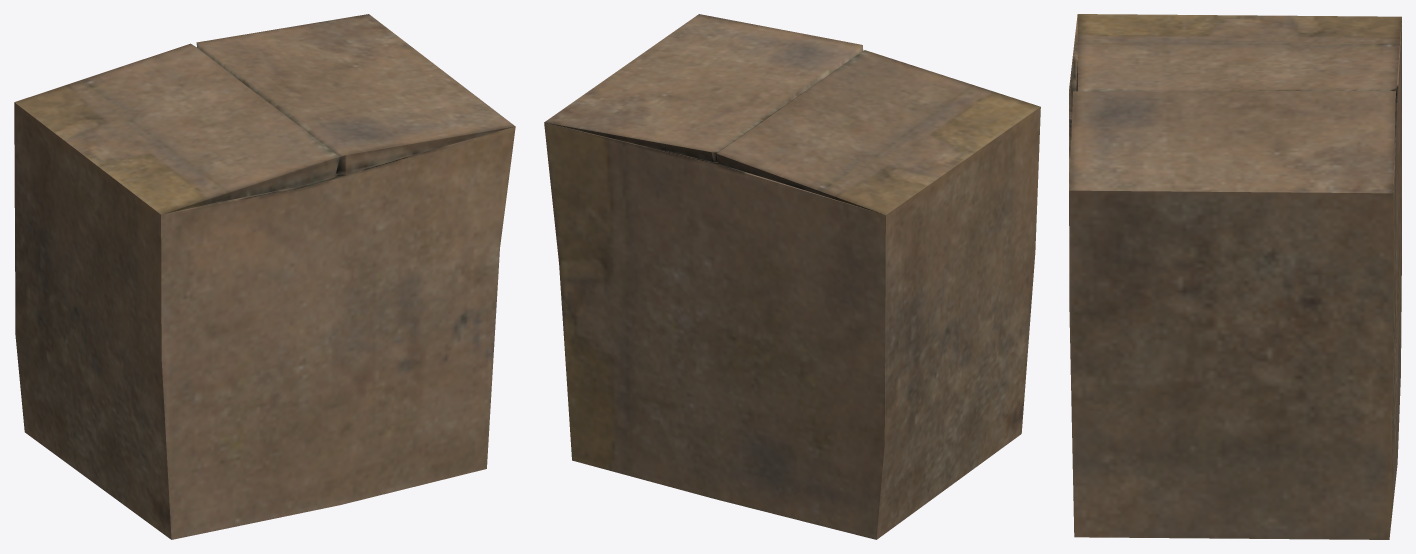
Rendered from CardboardBox_T02.FBX.
3 views of the same model, side by side, from view 1: azimuth 30°, elevation 25°; view 2: azimuth 150°, elevation 25°; view 3: azimuth 270°, elevation 25° (orthographic). The views are drawn at different scales.
Parts seen in each view (by area): view 1: CardboardBox_T02; view 2: CardboardBox_T02; view 3: CardboardBox_T02.
Part boxes in pixels (x1,y1,x2,y2): CardboardBox_T02: (14, 14, 515, 539); CardboardBox_T02: (544, 14, 1040, 539); CardboardBox_T02: (1069, 14, 1401, 539).
Bounding box in the file's own units: 64.2 × 60.37 × 48.74.
